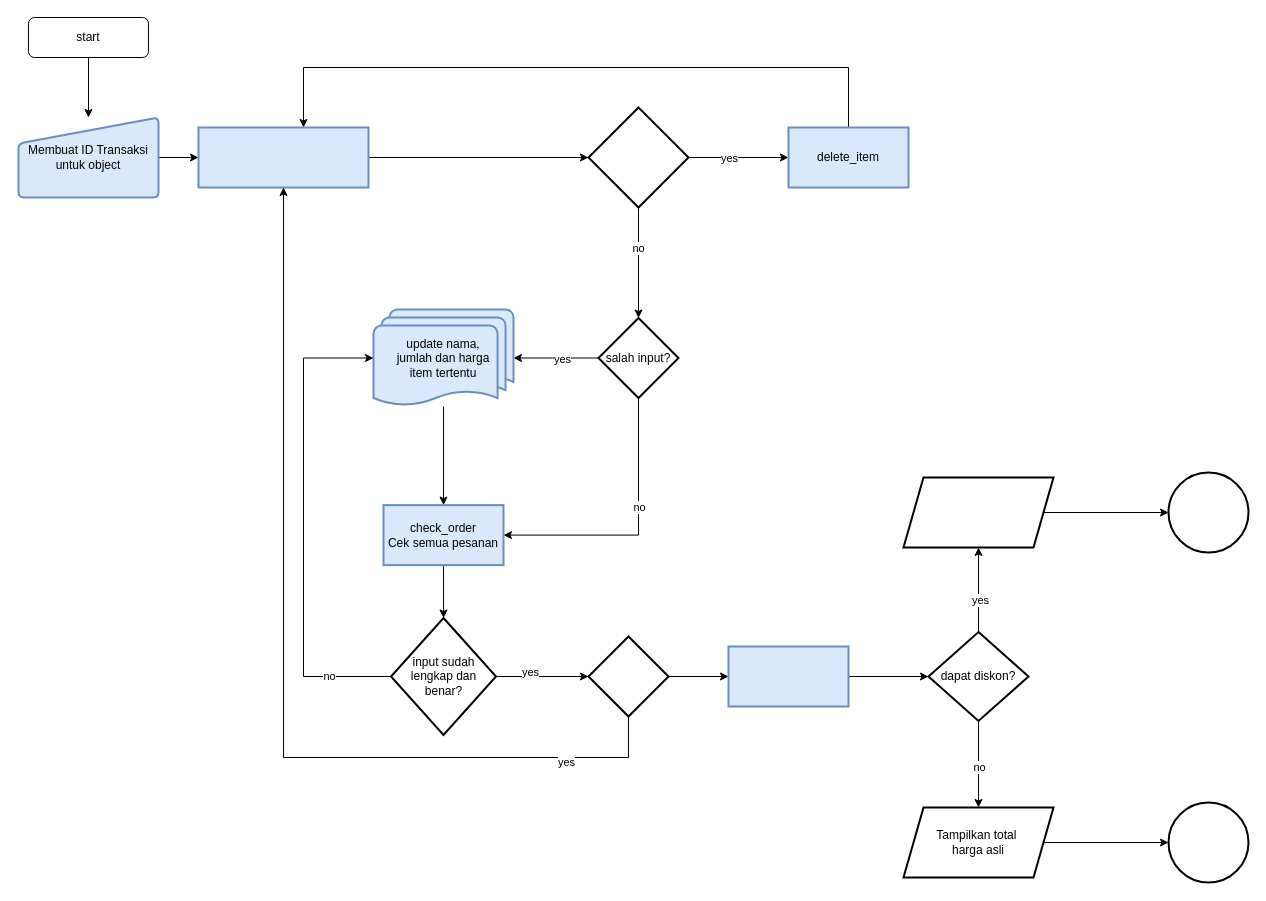
Some shapes in this 1266 by 901 pixel diagram are drawn without their labels. Each missing label, with the centre of its shape:
"batal membeli barang?" goes at (x=638, y=157).
"count total belanja" goes at (x=788, y=676).
"Menambahkan item (add_item)" goes at (x=283, y=157).
"Reset?" goes at (x=628, y=676).
"Tampilkan total harga setelah diskon" goes at (x=978, y=512).
